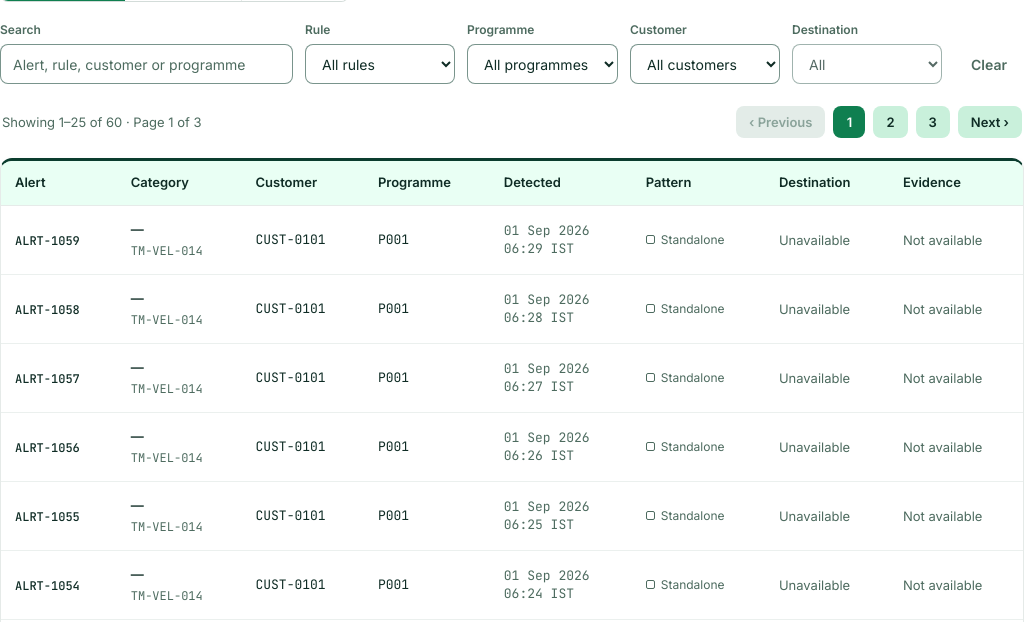
Test: alert queue › shows newest first, with page controls above and below the table
The width and height of the screenshot is (1024, 622).
Expected: the text "ALRT-1059" is shown, [15, 232, 80, 248]
Expected: the text "Showing 1–25 of 60 · Page 1 of 3" is shown, [2, 111, 201, 133]
Click the button with aria-label "Next page": (990,122) [958, 106, 1022, 138]
(page scrolled)
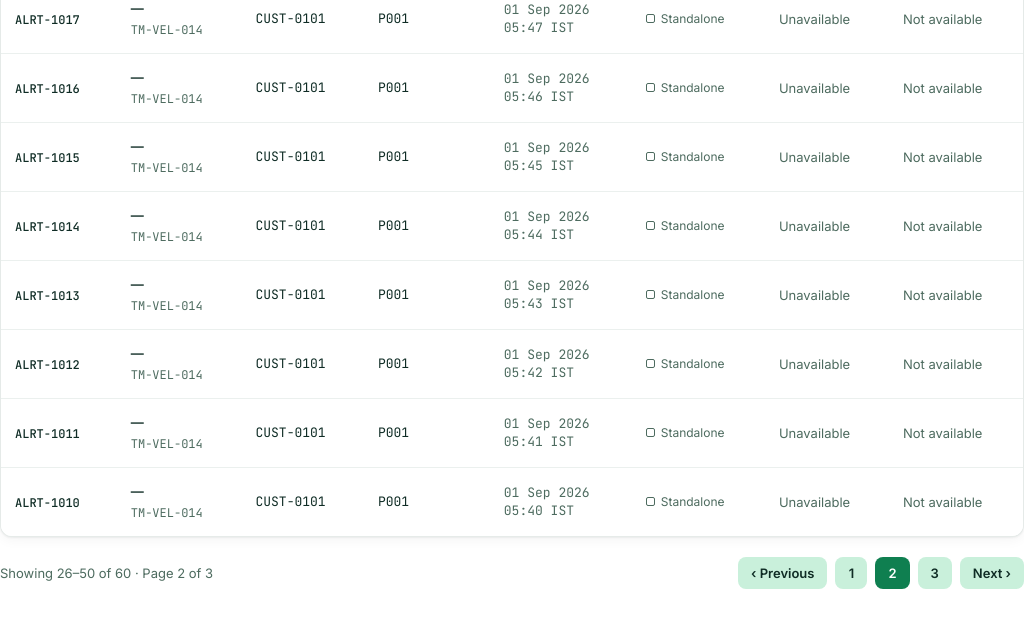
Click the button named "Page 3": (935,572) [918, 556, 952, 588]
(page scrolled)
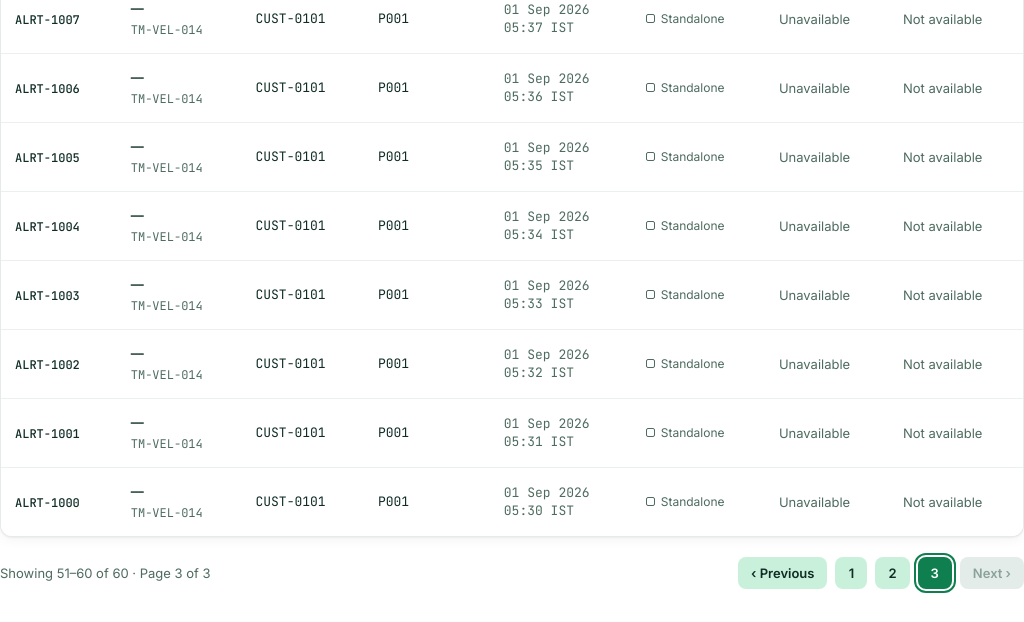
Expected: the text "ALRT-1000" is shown, [15, 494, 80, 510]
Expected: the button with aria-label "Next page" is disabled, [960, 556, 1023, 588]
